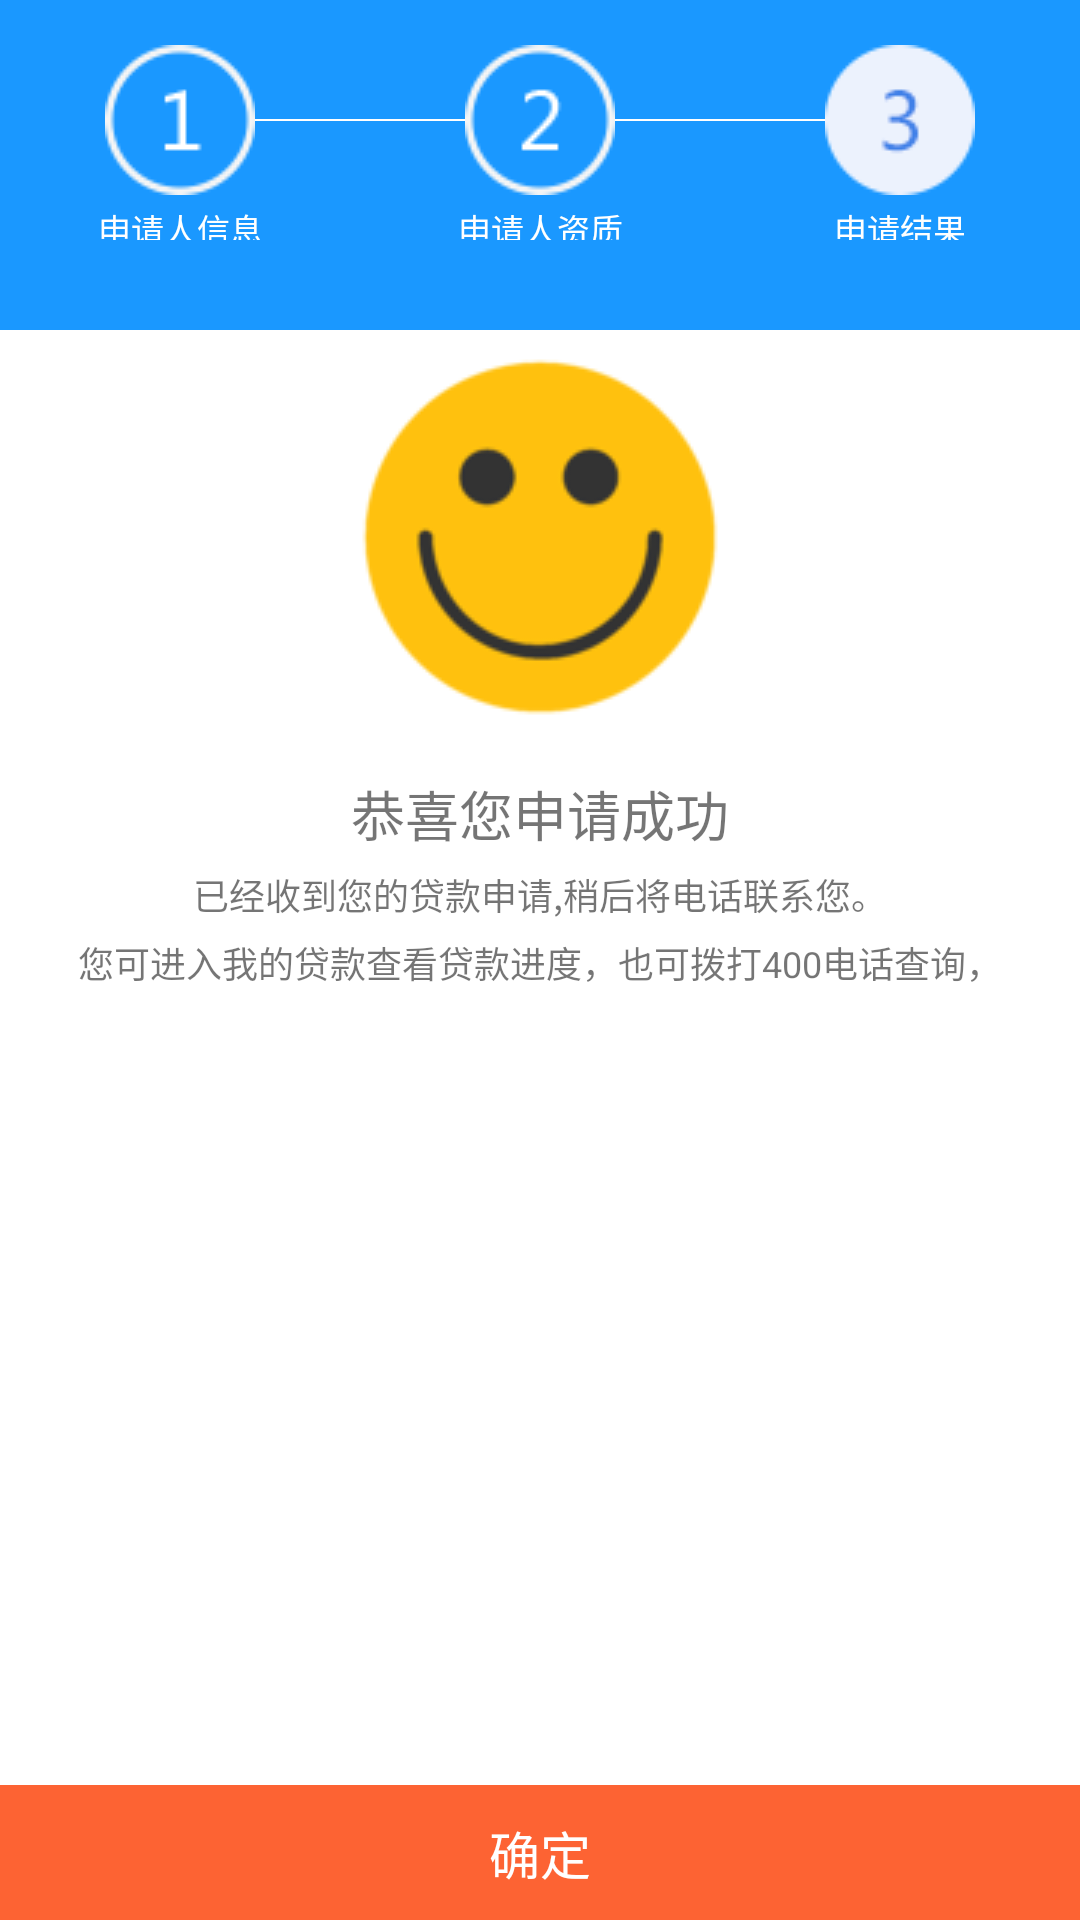

Point at icon controls on the screen. Image size 1080px×1920px, points as (x,y).
smils: (540,537)
